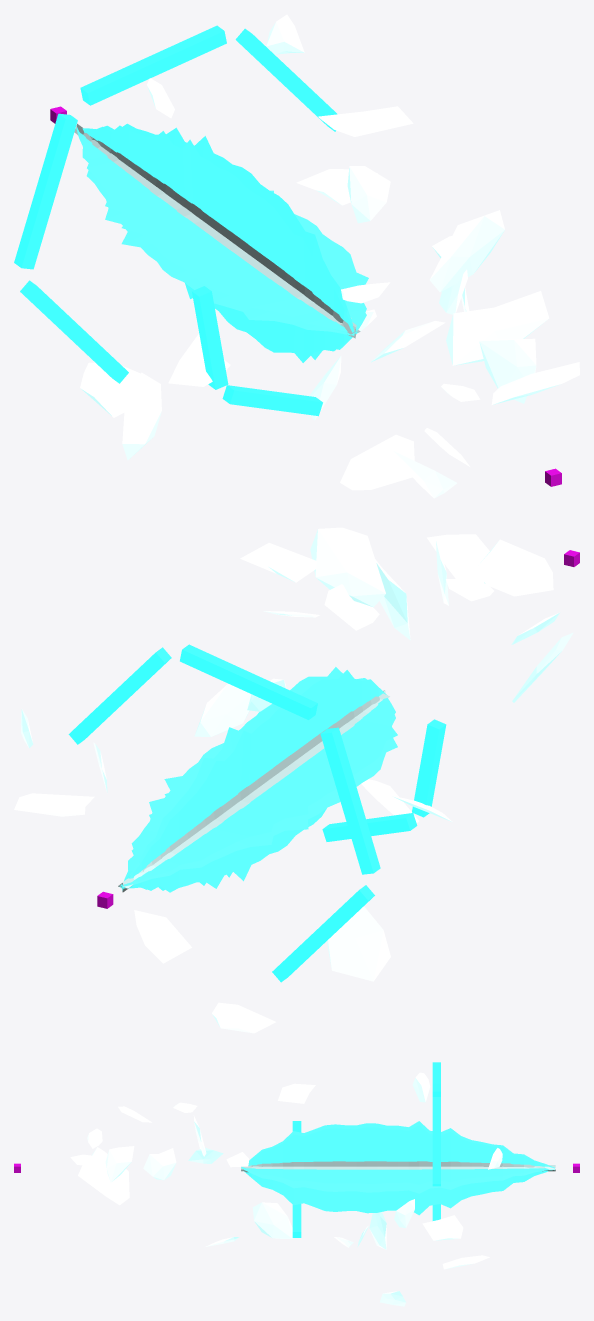
Rendered from RiftBlast.fbx.
3 views of the same model, one above another, from view 1: azimuth 30°, elevation 25°; view 2: azimuth 150°, elevation 25°; view 3: azimuth 270°, elevation 25° (orthographic). The views are drawn at different scales.
Parts seen in each view (by area): view 1: Fragments, EdgeMagenta, EdgeCyan, Gates, Tear; view 2: Fragments, EdgeCyan, EdgeMagenta, Gates, Tear; view 3: Fragments, EdgeMagenta, EdgeCyan, Tear, Gates.
Boxes of the visible parts, x1,y1,x2,y2 form: Fragments: [80, 14, 579, 498]; EdgeMagenta: [77, 123, 366, 362]; EdgeCyan: [76, 125, 368, 359]; Gates: [14, 25, 337, 416]; Tear: [74, 123, 360, 338]; Fragments: [14, 527, 573, 1033]; EdgeCyan: [120, 670, 397, 890]; EdgeMagenta: [120, 667, 397, 892]; Gates: [68, 644, 446, 982]; Tear: [118, 690, 389, 892]; Fragments: [70, 1072, 502, 1306]; EdgeMagenta: [241, 1125, 552, 1193]; EdgeCyan: [242, 1121, 554, 1215]; Tear: [241, 1161, 555, 1172]; Gates: [292, 1062, 440, 1237].
Size of the model in its own units: 3.45 by 3.29 by 8.1.
